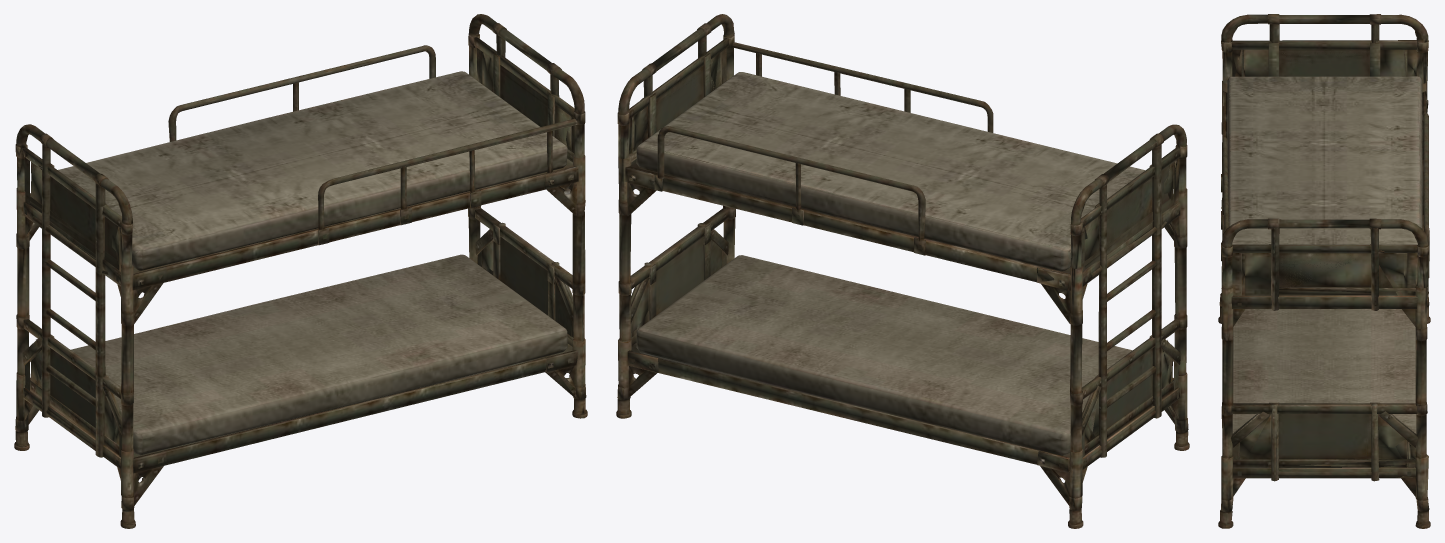
Rendered from reactor-bunk-bed.glb.
The picture shows the model from 3 angles, left to right: view 1: azimuth 30°, elevation 25°; view 2: azimuth 150°, elevation 25°; view 3: azimuth 270°, elevation 25°; orthographic projection. The views are drawn at different scales.
Parts seen in each view (by area): view 1: reactor-bunk-bed; view 2: reactor-bunk-bed; view 3: reactor-bunk-bed.
Boxes of the visible parts, box(x1,y1,x2,y2) form: reactor-bunk-bed: box(14, 14, 587, 528); reactor-bunk-bed: box(616, 14, 1189, 528); reactor-bunk-bed: box(1218, 14, 1430, 528).
Size of the model in its own units: 2 by 1.36 by 0.8533.
Materials: 1 (1 with a texture image).
